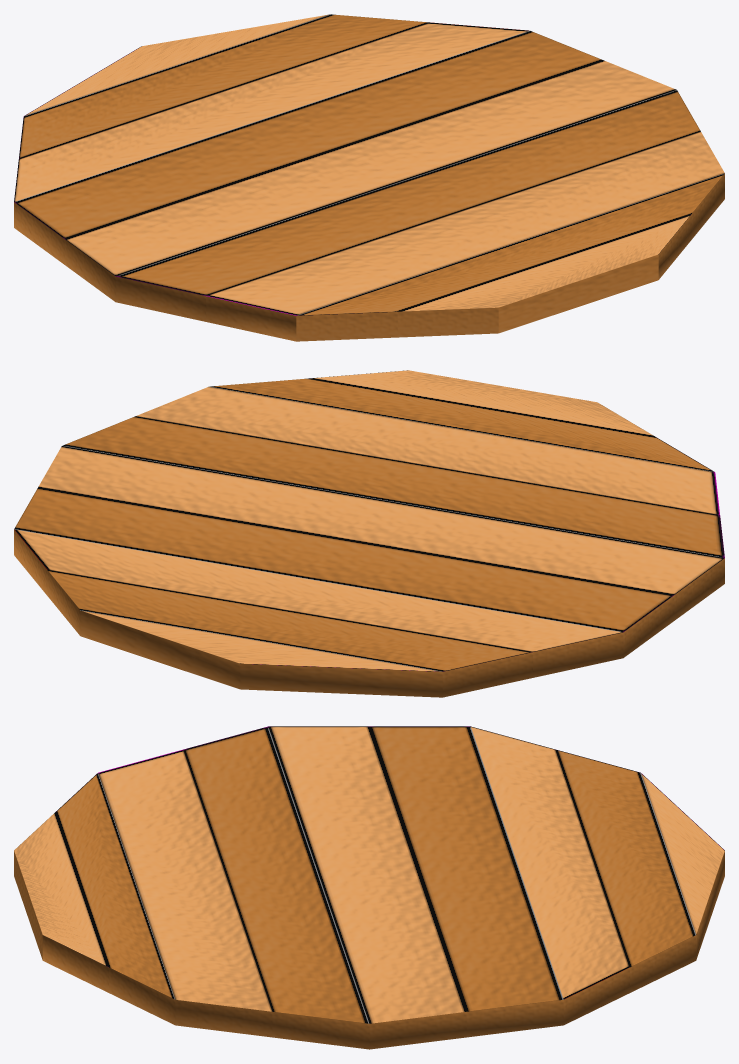
File: WoodenTray.fbx
3 renders of one model, top to bottom at view 1: azimuth 30°, elevation 25°; view 2: azimuth 150°, elevation 25°; view 3: azimuth 270°, elevation 25°, orthographic.
Visible parts, largest first — view 1: WoodenTray; view 2: WoodenTray; view 3: WoodenTray.
Part boxes in pixels (x1=…): WoodenTray: x1=14, y1=14, x2=724, y2=341; WoodenTray: x1=14, y1=370, x2=724, y2=697; WoodenTray: x1=14, y1=726, x2=724, y2=1049.
Size of the model in its own units: 82.09 by 3.31 by 82.94.
